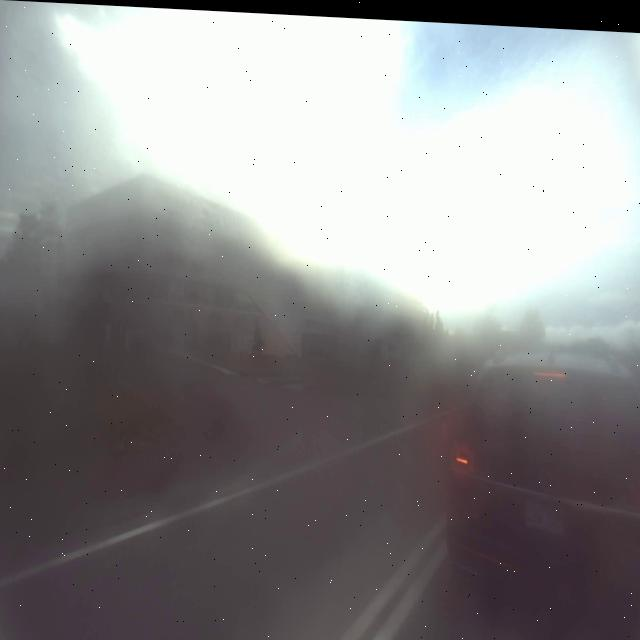car: (448, 333, 640, 571)
